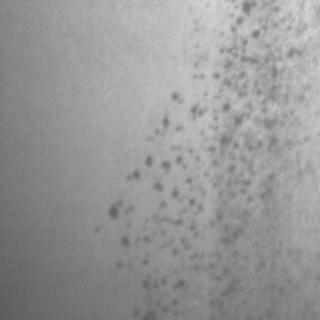pitted_surface: (106, 0, 300, 310)
